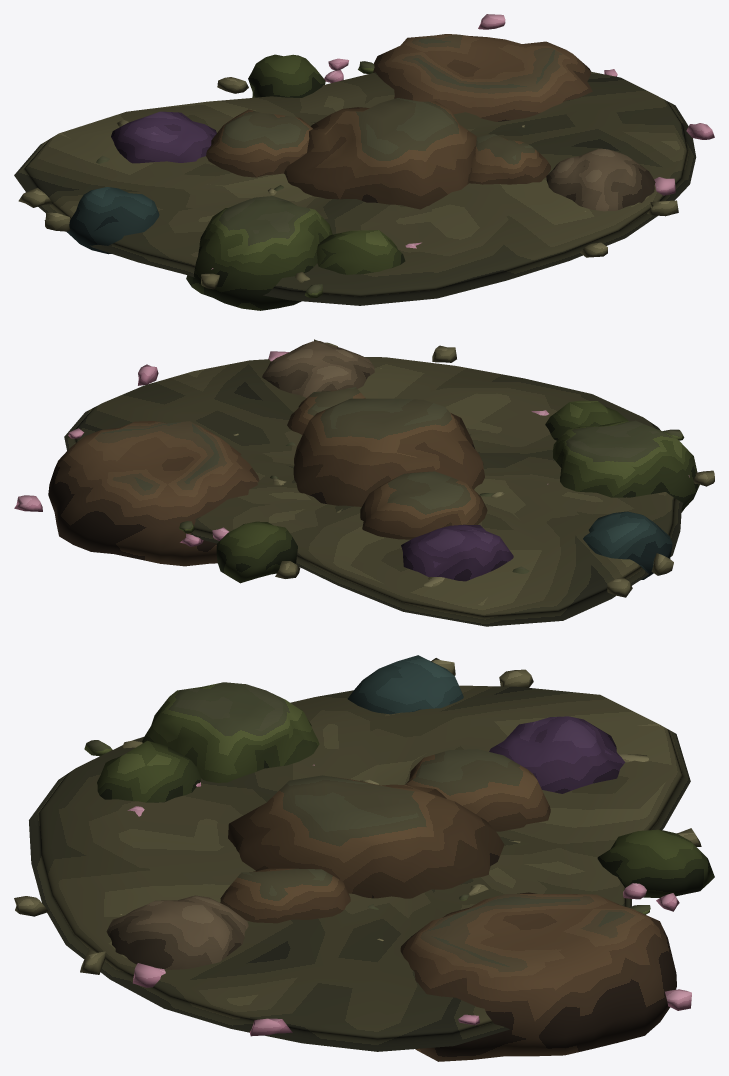
3 views of the same model, one above another, from view 1: azimuth 30°, elevation 25°; view 2: azimuth 150°, elevation 25°; view 3: azimuth 270°, elevation 25° (orthographic). The views are drawn at different scales.
Visible parts, largest first — view 1: coral; view 2: coral; view 3: coral.
Part boxes in pixels (x1=…): coral: x1=14, y1=14, x2=714, y2=310; coral: x1=14, y1=339, x2=714, y2=626; coral: x1=14, y1=655, x2=714, y2=1061.
Bounding box in the file's own units: 5.74 × 0.9967 × 4.55.
Materials: 1 (1 with a texture image).
